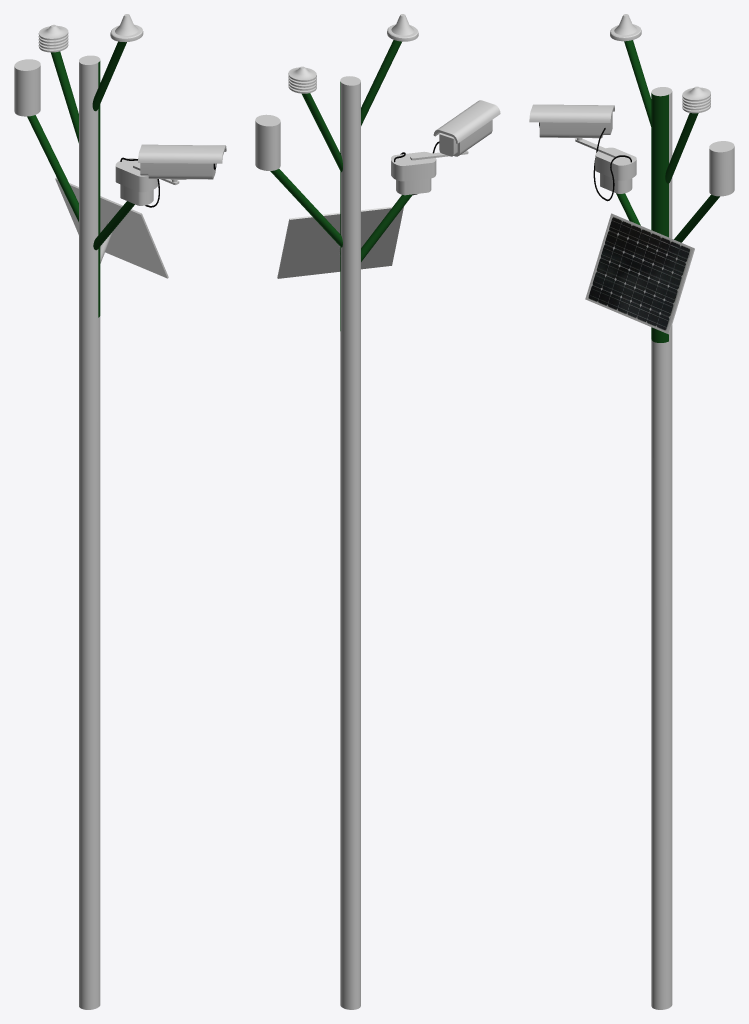
Rendered from dev.glb.
3 views of the same model, side by side, from view 1: azimuth 90°, elevation 25°; view 2: azimuth 150°, elevation 25°; view 3: azimuth 270°, elevation 25° (orthographic). The views are drawn at different scales.
Visible parts, largest first — view 1: ysq_1; view 2: ysq_1; view 3: ysq_1.
Part boxes in pixels (bbox=[...]): ysq_1: bbox=[14, 14, 226, 1009]; ysq_1: bbox=[255, 14, 500, 1009]; ysq_1: bbox=[529, 14, 734, 1009].
Size of the model in its own units: 2.85 by 17.29 by 3.3.
4 materials, 1 textured.
